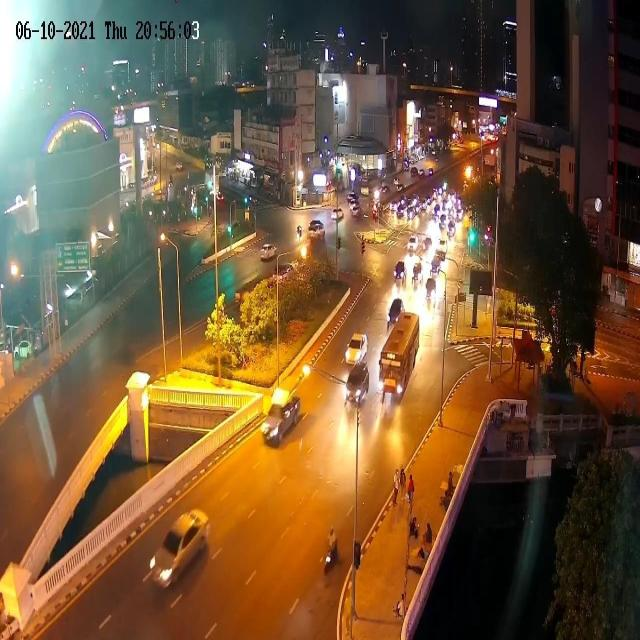Bus: (375, 309, 423, 401)
Car: (144, 498, 208, 602), (257, 378, 297, 456), (342, 363, 368, 409), (345, 327, 369, 374), (306, 216, 327, 247), (386, 296, 404, 330), (258, 238, 278, 268), (422, 277, 438, 306), (392, 257, 407, 285), (330, 203, 346, 229), (410, 260, 424, 286), (428, 254, 441, 279), (421, 235, 434, 257), (406, 232, 419, 253), (350, 204, 364, 222), (345, 187, 358, 206), (214, 188, 225, 207), (438, 213, 447, 236), (390, 199, 400, 214), (382, 183, 390, 196), (418, 168, 425, 182), (386, 18, 392, 22)
Cycle: (320, 527, 344, 584)
